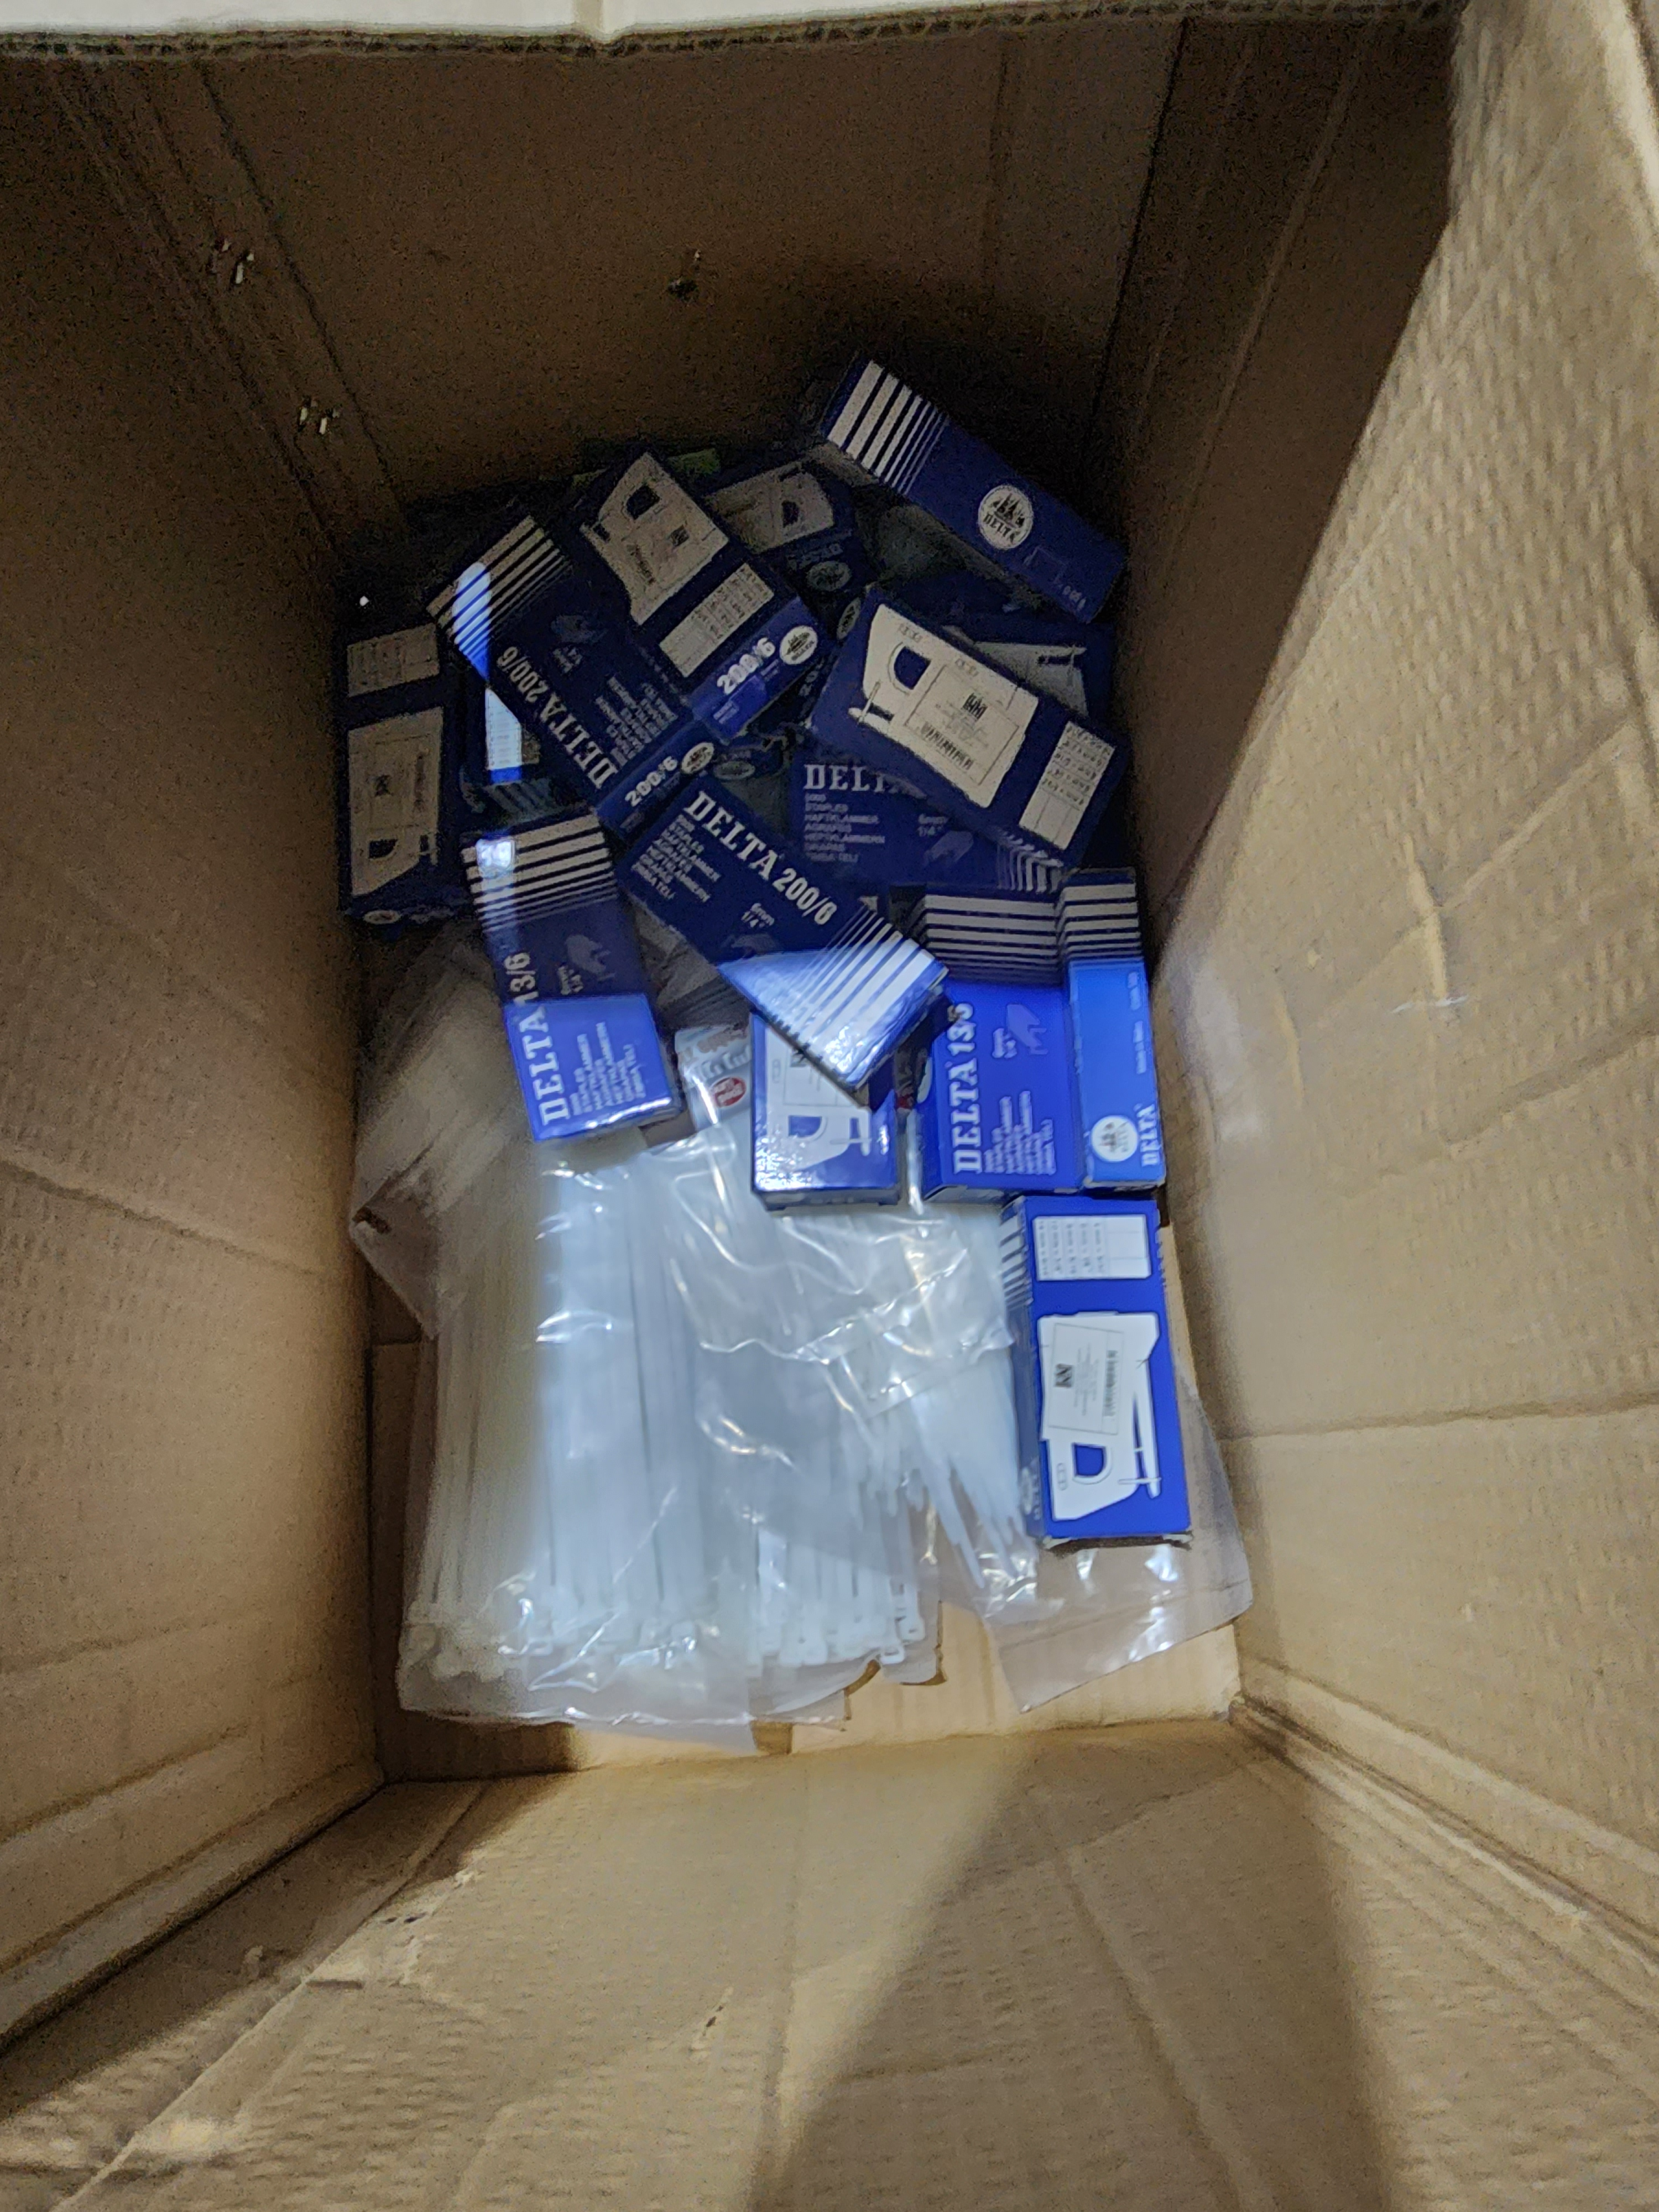box: (450, 810, 701, 1191), (812, 566, 1127, 867), (993, 1170, 1215, 1581), (434, 510, 723, 817)
